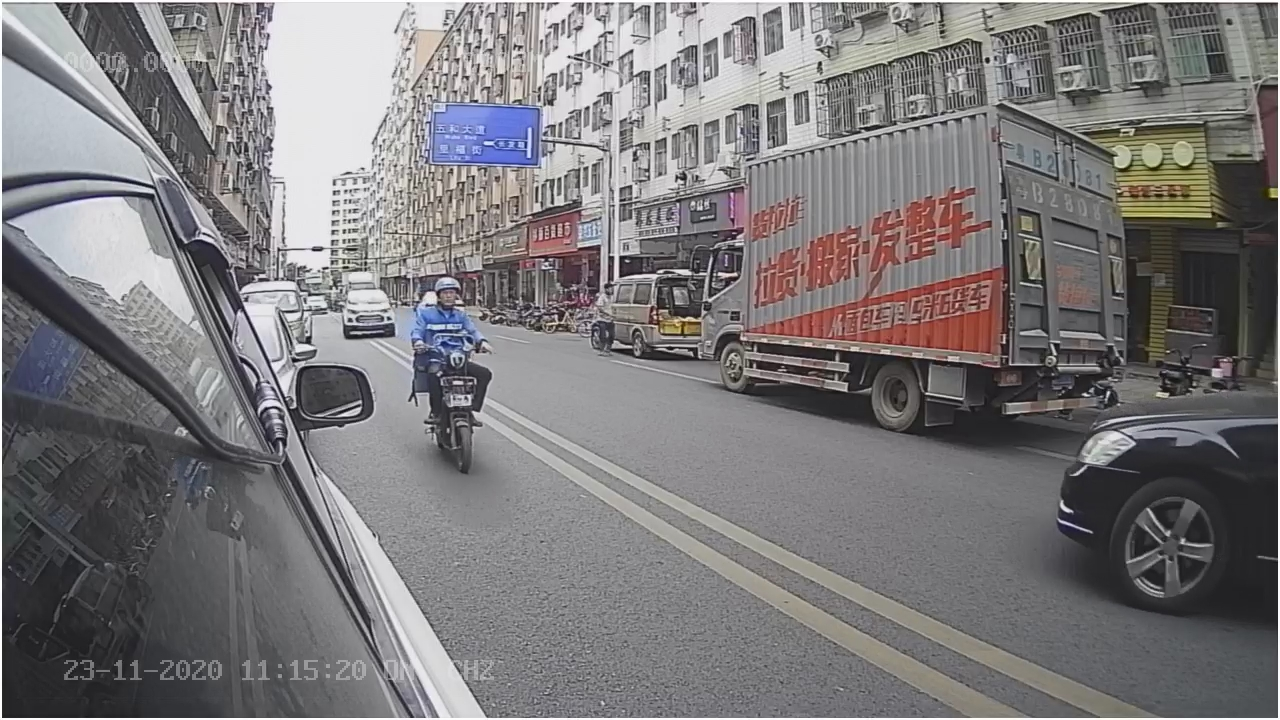person: (407, 278, 494, 352)
